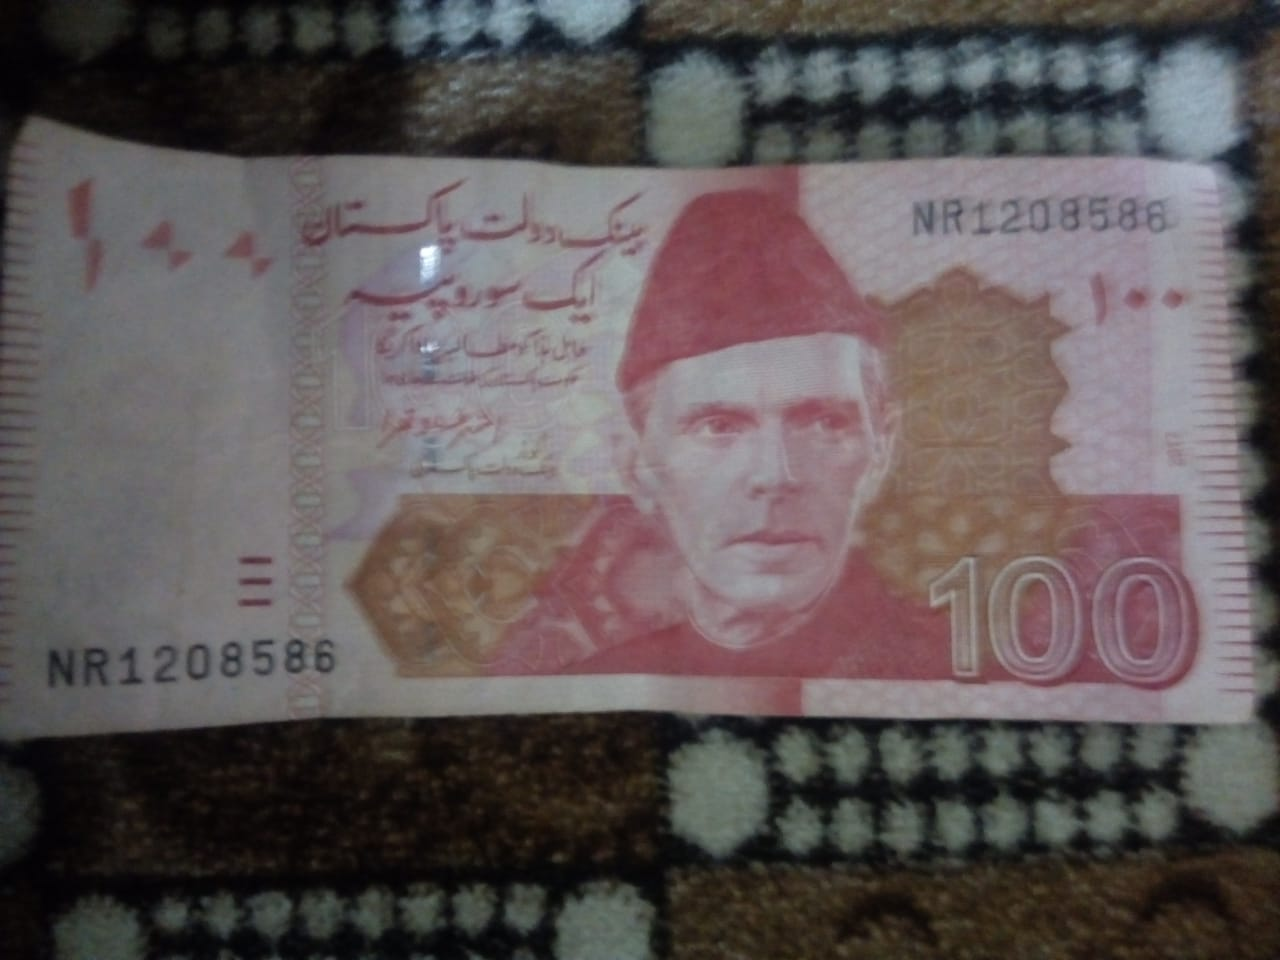100 rupee: (7, 114, 1253, 733)
